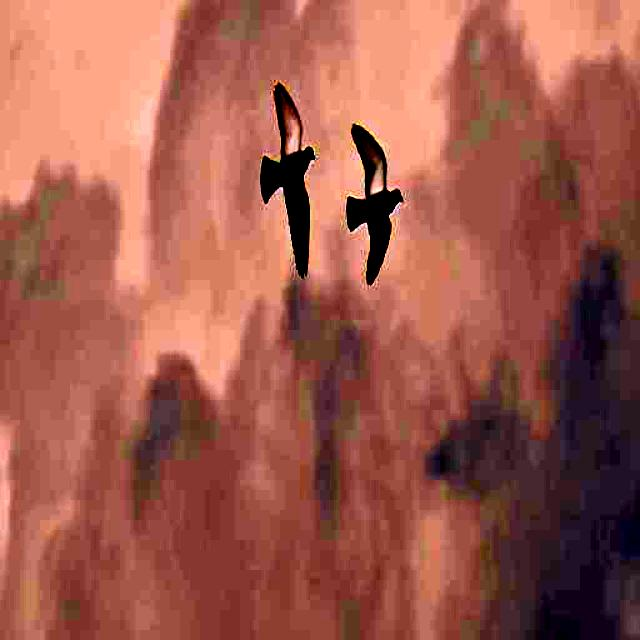airplane: (258, 72, 341, 318), (348, 90, 414, 334)
